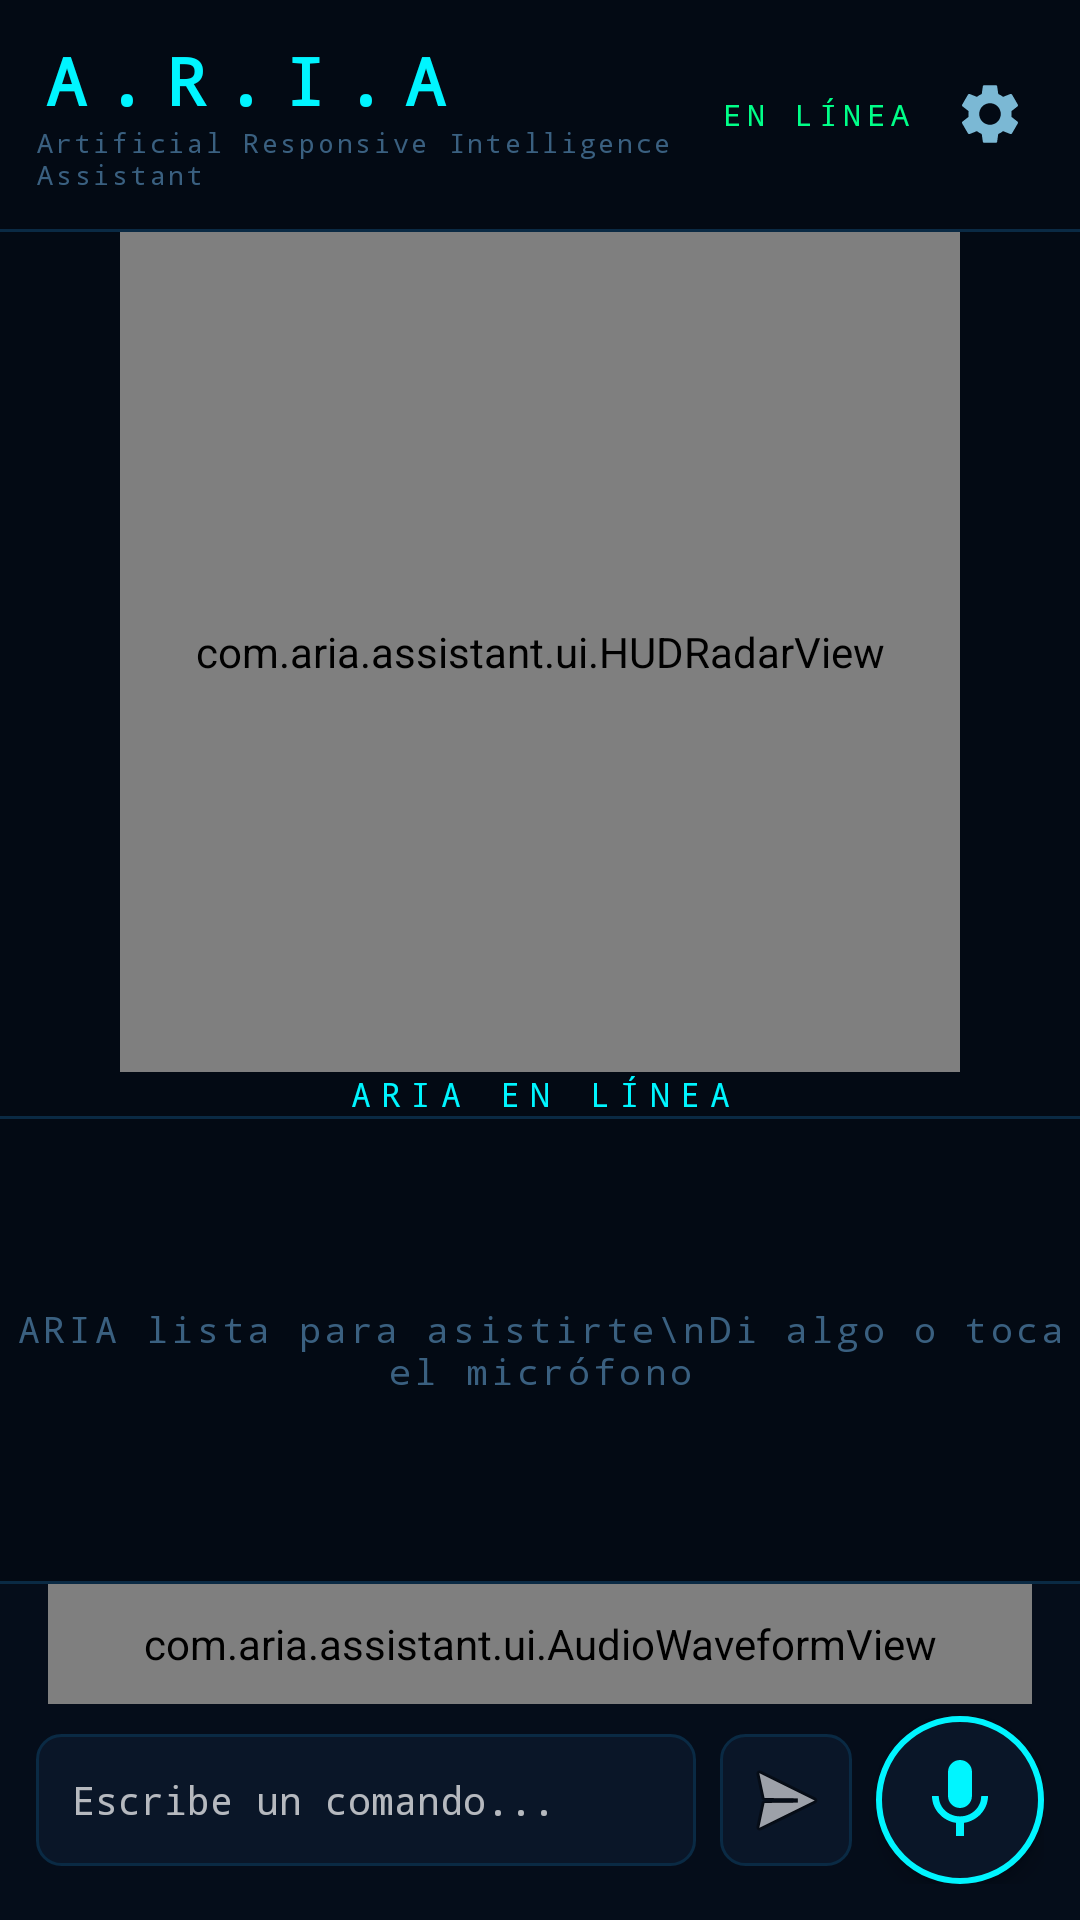

Named icons in this screenshot (1080px×1920px) and their centers, (x=x, y=y):
Send: (x=786, y=1800)
Settings: (x=990, y=114)
TOCA PARA HABLAR: (x=960, y=1800)
